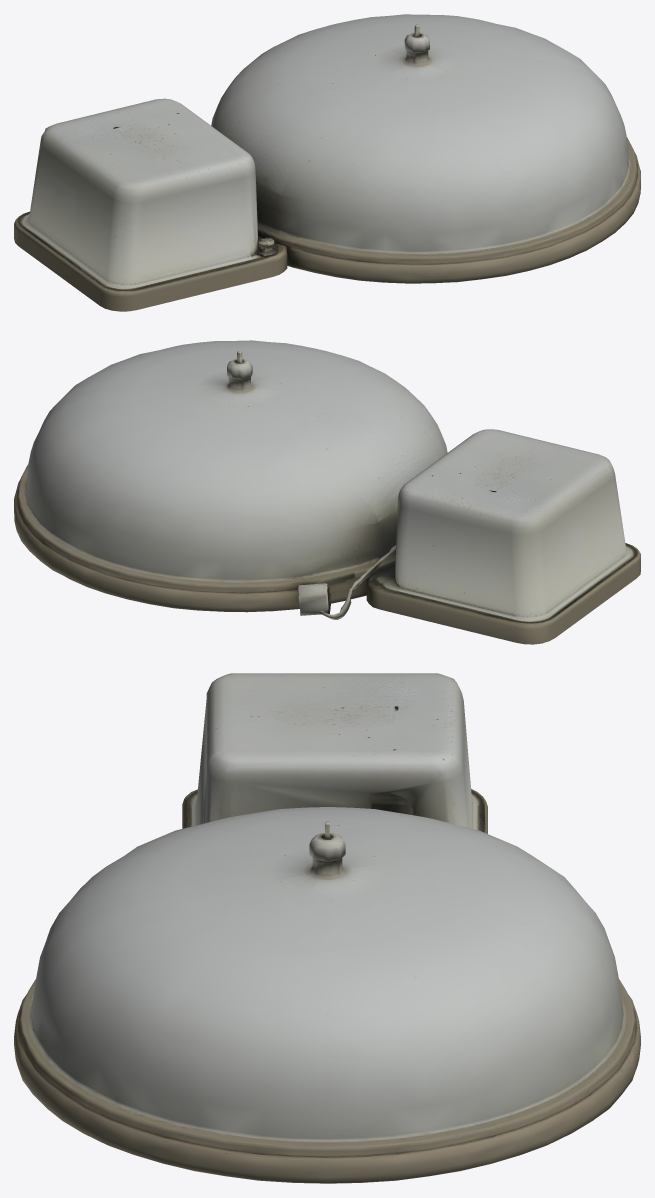
3 views of the same model, one above another, from view 1: azimuth 30°, elevation 25°; view 2: azimuth 150°, elevation 25°; view 3: azimuth 270°, elevation 25° (orthographic). The views are drawn at different scales.
Parts seen in each view (by area): view 1: tripo_node_48b0b9d5; view 2: tripo_node_48b0b9d5; view 3: tripo_node_48b0b9d5.
Boxes of the visible parts, left/top/right/bottom form: tripo_node_48b0b9d5: left=14, top=14, right=640, bottom=311; tripo_node_48b0b9d5: left=14, top=340, right=640, bottom=644; tripo_node_48b0b9d5: left=14, top=673, right=640, bottom=1183.
Bounding box in the file's own units: 0.998 × 0.2871 × 0.7051.
1 material, 1 textured.
